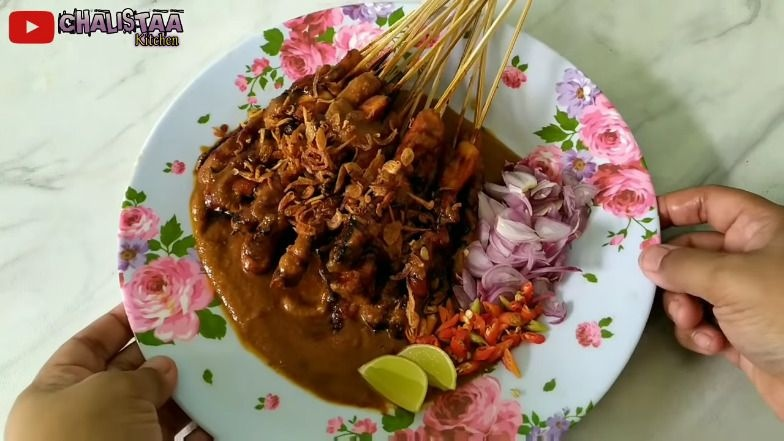sate_madura: (194, 1, 468, 308)
